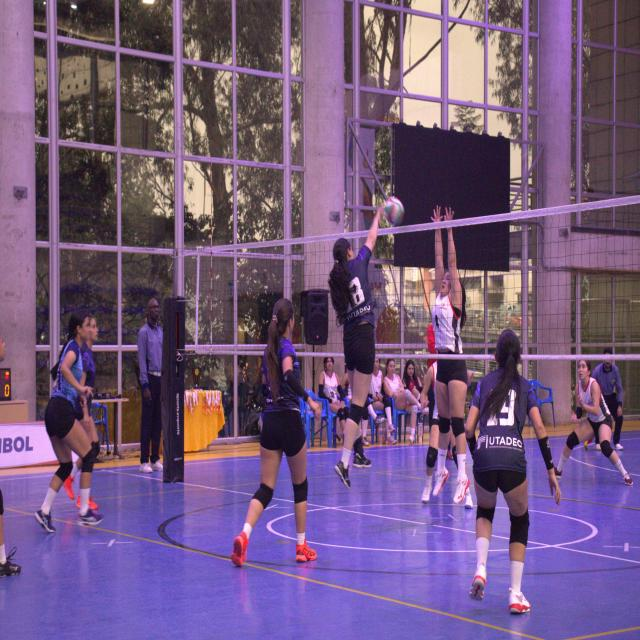volleyball: (384, 196, 406, 229)
